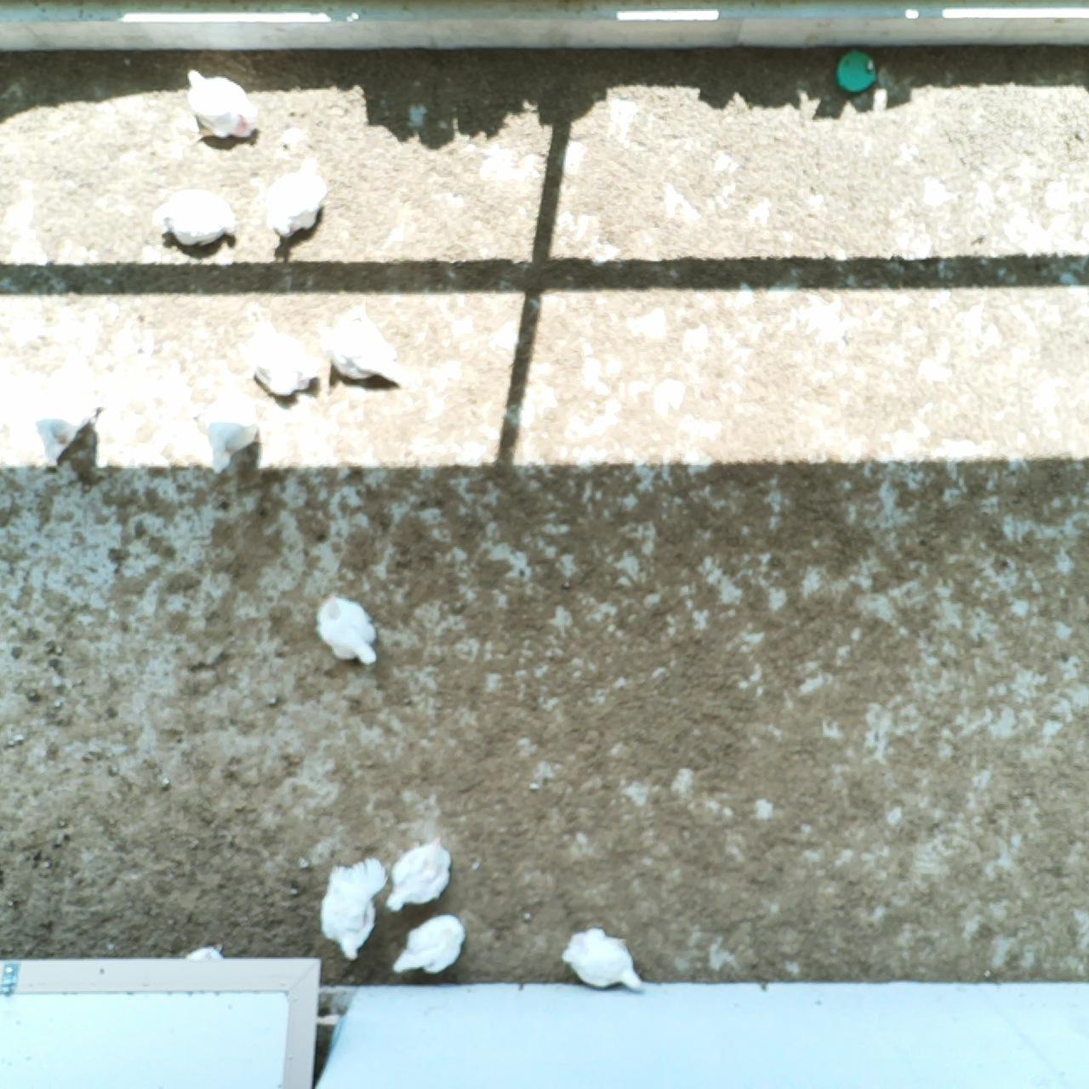chicken: (23, 363, 103, 472), (316, 851, 390, 966), (321, 298, 408, 393), (234, 316, 320, 401), (199, 377, 268, 476), (174, 67, 258, 148), (557, 918, 644, 995), (150, 183, 240, 253), (261, 155, 333, 242), (382, 835, 457, 916), (313, 584, 382, 669), (390, 913, 468, 981)
